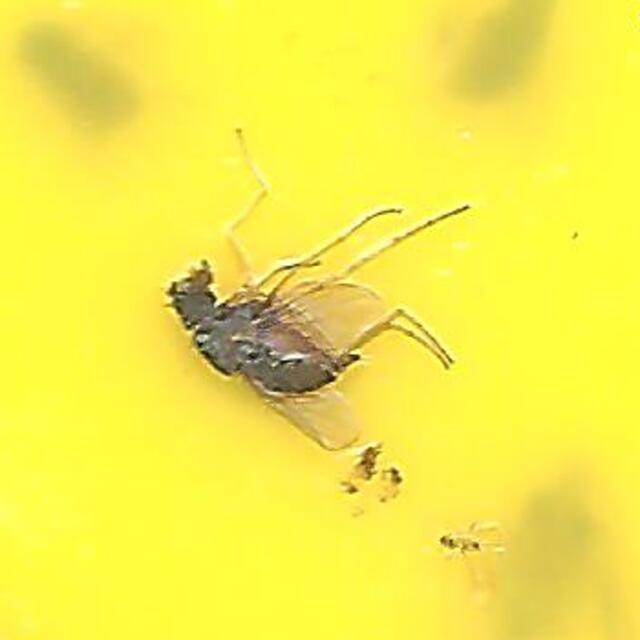Brachycera: (183, 197, 457, 443)
